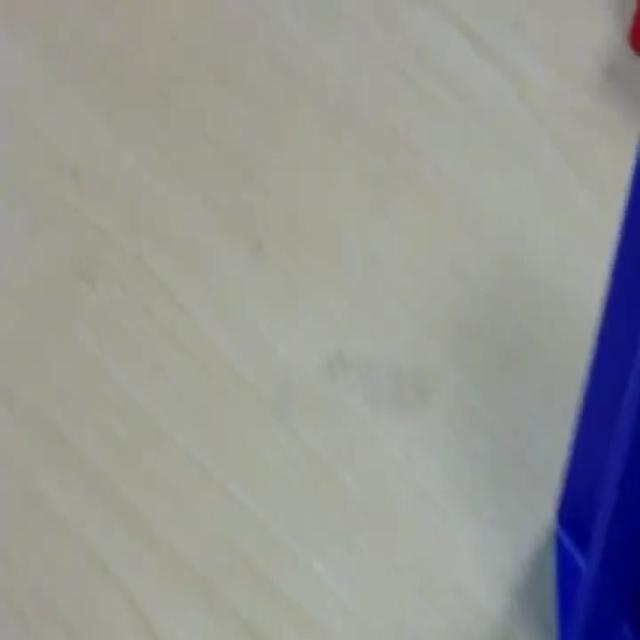blue_block: (553, 137, 638, 636)
